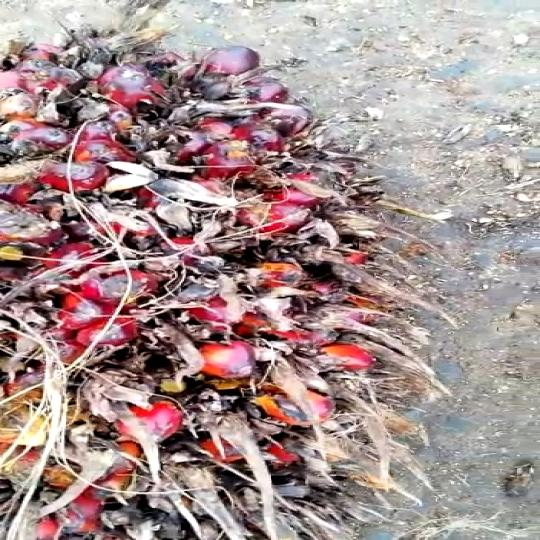terlalu masak: (0, 31, 427, 540)
